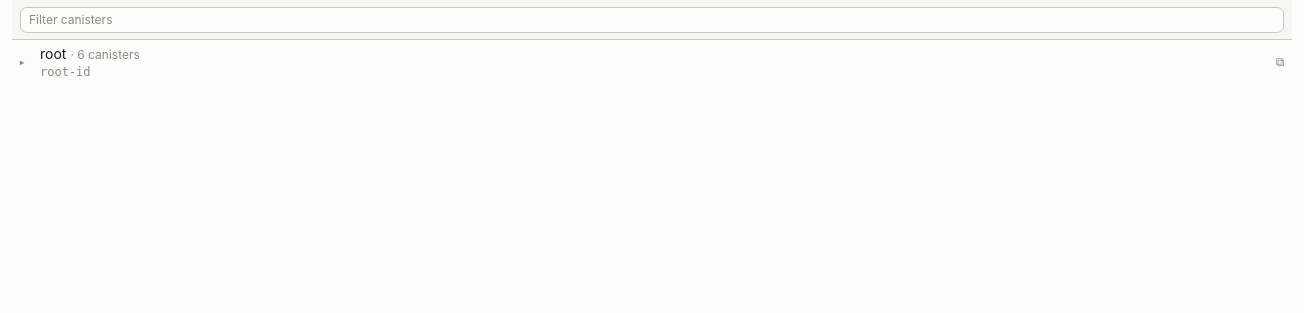
it: the count appears only while collapsed
Click the button named "Expand root" at (22, 62), box [12,40,32,84]
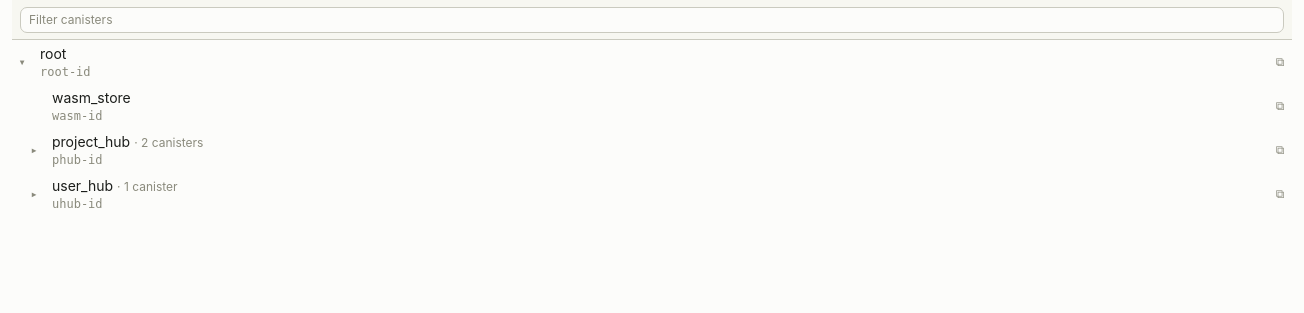
Expected: the text "· 2 canisters" is shown, [134,135,203,150]
Click the button named "Expand project_hub" at (34, 150), box [24,128,44,172]
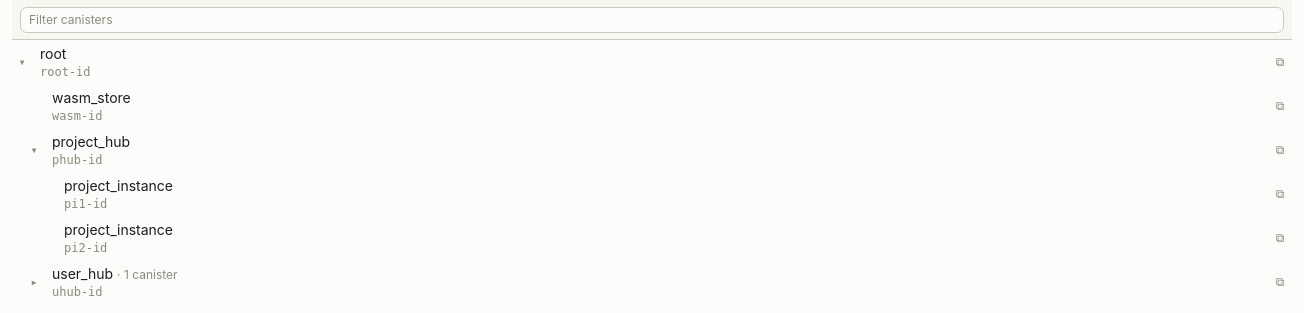
Expected: the text "· 2 canisters" is gone
